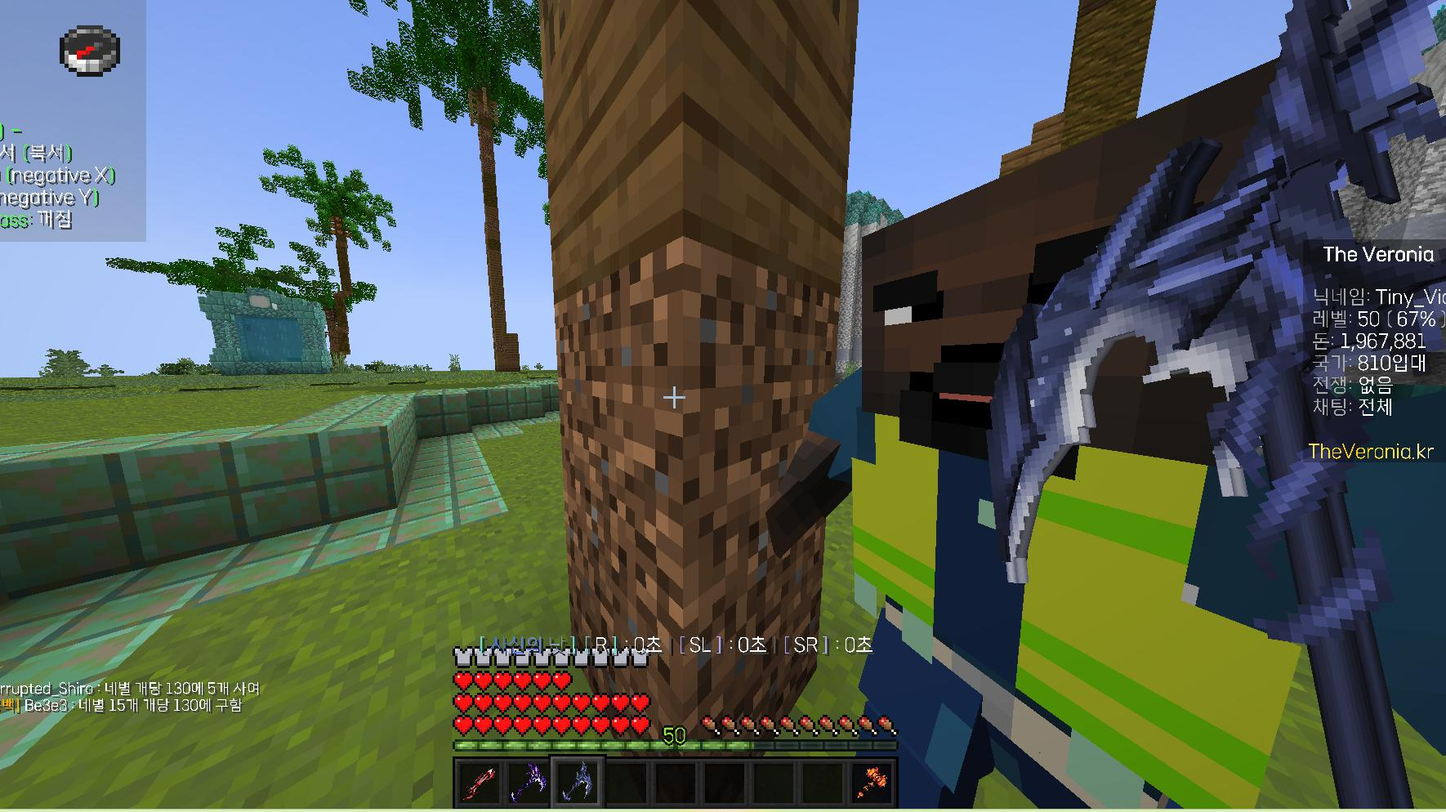Guardian: (769, 65, 1300, 807)
